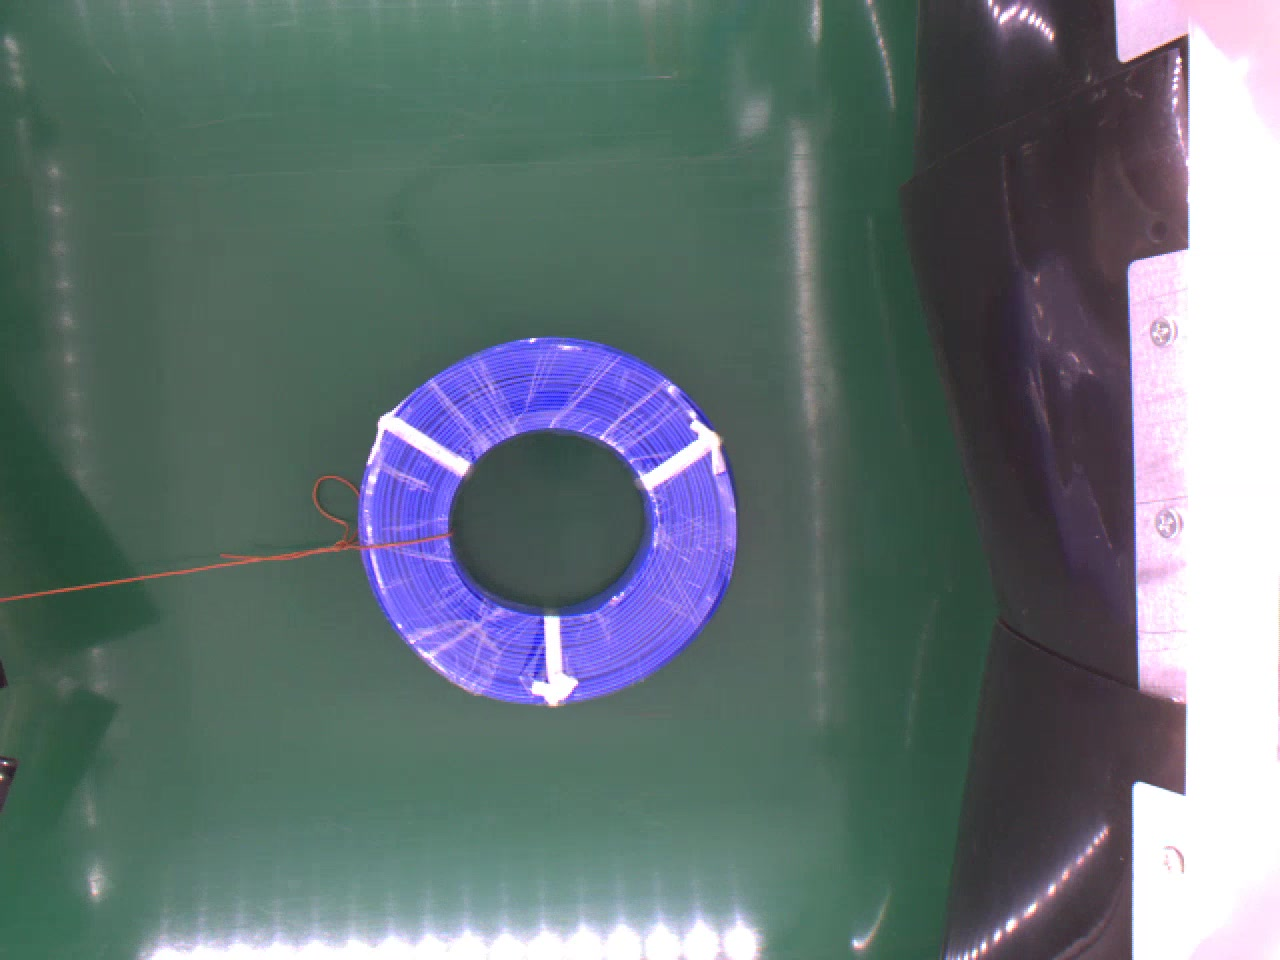blue: (359, 331, 739, 705)
